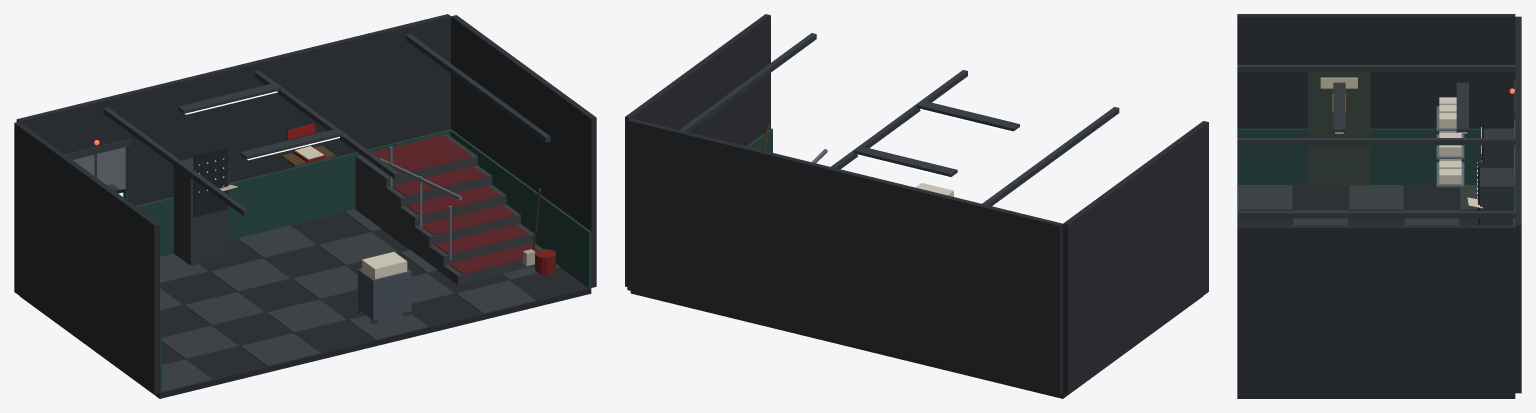
Rendered from corridor.glb.
3 views of the same model, side by side, from view 1: azimuth 30°, elevation 25°; view 2: azimuth 150°, elevation 25°; view 3: azimuth 270°, elevation 25° (orthographic).
Visible parts, largest first — view 1: WallBack, WallLeft, Floor, WallRight, BandBack, BandRight, PanelCabinet, CartBody, PanelDoor, LandingCarpet, Step5, Step4 (+31 smaller); view 2: WallBack, WallLeft, WallRight, Floor, PipeRun0, PipeRun2, PipeRun1, FluoroHousing0, FluoroHousing1; view 3: WallRight, WallLeft, BandLeft, LaundryDoor, Floor, WallBack, PipeRun0, PipeRun1, PipeRun2, PanelCabinet, Tile0_2, Tile0_0 (+11 smaller).
Part boxes in pixels (x1,y1,x2,y2): WallBack: (16,14,450,205); WallLeft: (14,121,159,394); Floor: (20,212,591,398); WallRight: (451,15,596,287); BandBack: (135,129,451,256); BandRight: (450,129,591,288); PanelCabinet: (173,158,229,265); CartBody: (358,268,411,320); PanelDoor: (193,146,227,217); LandingCarpet: (372,135,468,170); Step5: (371,145,477,231); Step4: (385,165,492,242); WallBack: (627,118,1062,395); WallLeft: (1063,121,1208,394); WallRight: (625,14,770,286); Floor: (630,291,1202,398); PipeRun0: (982,107,1119,206); PipeRun2: (679,33,816,132); PipeRun1: (831,70,967,169); FluoroHousing0: (916,100,1019,131); FluoroHousing1: (854,146,957,176); WallRight: (1237,225,1515,395); WallLeft: (1237,14,1515,128); BandLeft: (1237,128,1513,185); LaundryDoor: (1308,72,1370,186); Floor: (1237,185,1515,398); WallBack: (1515,16,1521,393); PipeRun0: (1237,64,1515,71); PipeRun1: (1237,138,1515,145); PipeRun2: (1237,211,1515,218); PanelCabinet: (1480,168,1513,225); Tile0_2: (1349,185,1403,210); Tile0_0: (1238,185,1292,210).
Size of the model in its own units: 8.2 by 3.1 by 4.6.
